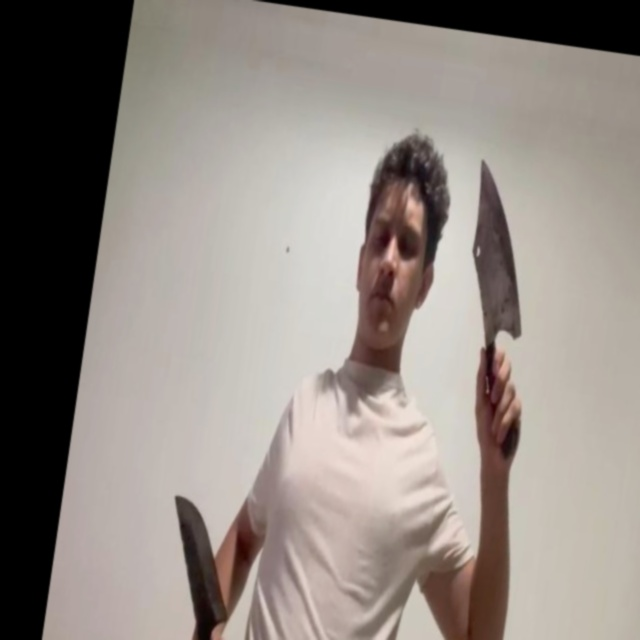Sharp-Object: (455, 158, 545, 346), (157, 491, 243, 627)
